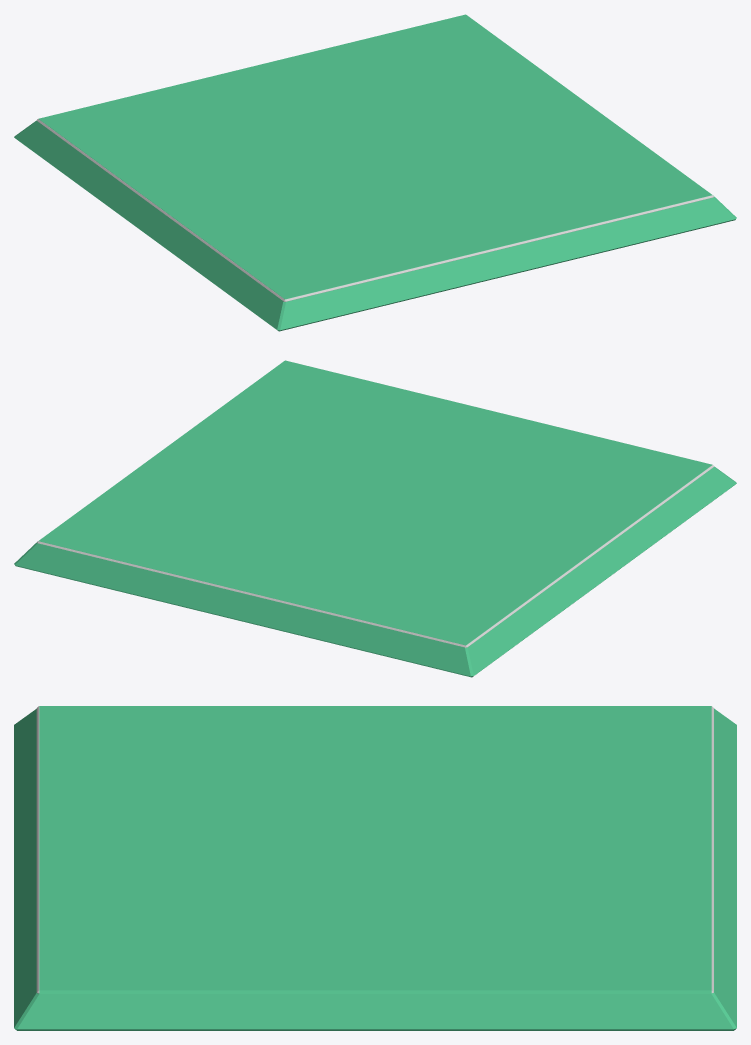
The model's file is gm_curb_01.dae.
3 renders of one model, top to bottom at view 1: azimuth 30°, elevation 25°; view 2: azimuth 150°, elevation 25°; view 3: azimuth 270°, elevation 25°, orthographic. The views are drawn at different scales.
Parts seen in each view (by area): view 1: Colmesh-1, ind_bld_c10; view 2: Colmesh-1, ind_bld_c10; view 3: Colmesh-1, ind_bld_c10.
Part boxes in pixels (x1,y1,x2,y2): Colmesh-1: [14, 14, 736, 331]; ind_bld_c10: [36, 119, 713, 301]; Colmesh-1: [14, 360, 736, 677]; ind_bld_c10: [37, 465, 714, 647]; Colmesh-1: [14, 706, 736, 1030]; ind_bld_c10: [36, 706, 713, 993].
Size of the model in its own units: 8.55 by 8.54 by 0.4044.
